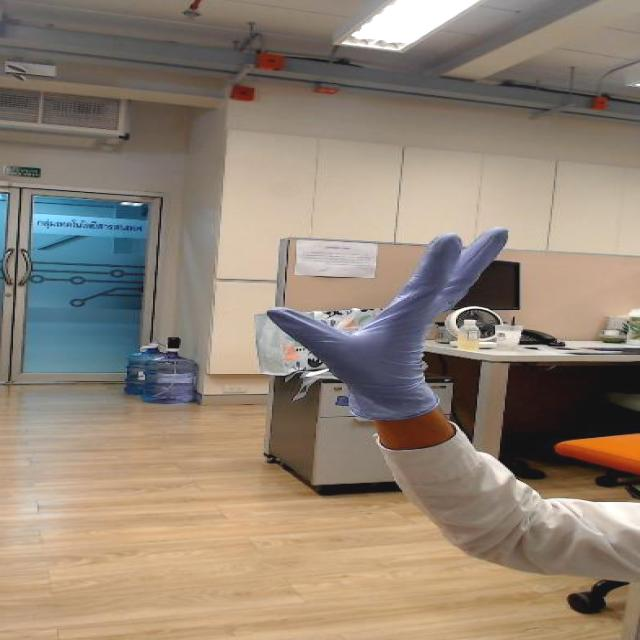glove: (249, 221, 520, 375)
